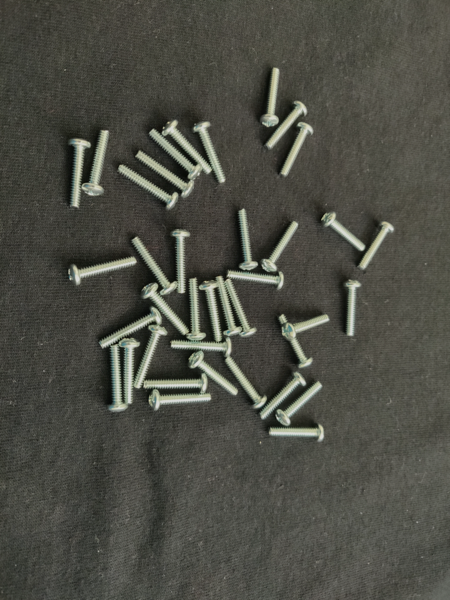longscrew: (116, 163, 182, 213), (133, 151, 198, 200), (147, 129, 204, 183), (161, 119, 214, 176), (128, 237, 179, 296), (96, 308, 164, 351), (142, 281, 191, 338), (132, 323, 169, 392), (262, 99, 309, 152), (224, 354, 267, 411), (258, 372, 308, 421), (193, 119, 229, 187), (273, 381, 325, 427), (65, 254, 137, 286), (319, 209, 369, 255), (187, 353, 239, 397), (278, 121, 316, 181), (81, 127, 112, 199), (258, 220, 299, 274), (277, 312, 314, 369), (357, 220, 395, 273), (224, 279, 257, 339), (215, 274, 245, 339), (66, 137, 92, 210), (199, 278, 225, 346), (105, 342, 129, 415), (118, 336, 142, 406), (258, 65, 283, 127), (225, 268, 286, 293), (170, 228, 192, 297), (141, 372, 209, 394), (184, 280, 208, 342), (147, 390, 213, 412), (237, 205, 258, 273), (282, 313, 332, 340), (171, 337, 235, 358), (341, 277, 362, 340), (267, 422, 326, 442)
